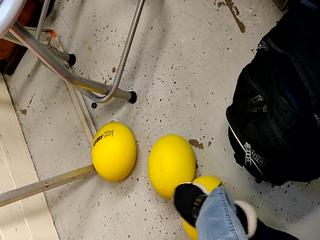power_cell: (88, 117, 144, 188), (142, 132, 198, 203), (176, 167, 232, 238)
